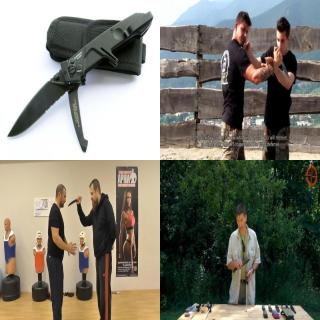knife: (5, 68, 67, 140), (273, 45, 290, 79), (232, 257, 250, 273), (66, 195, 82, 207)
